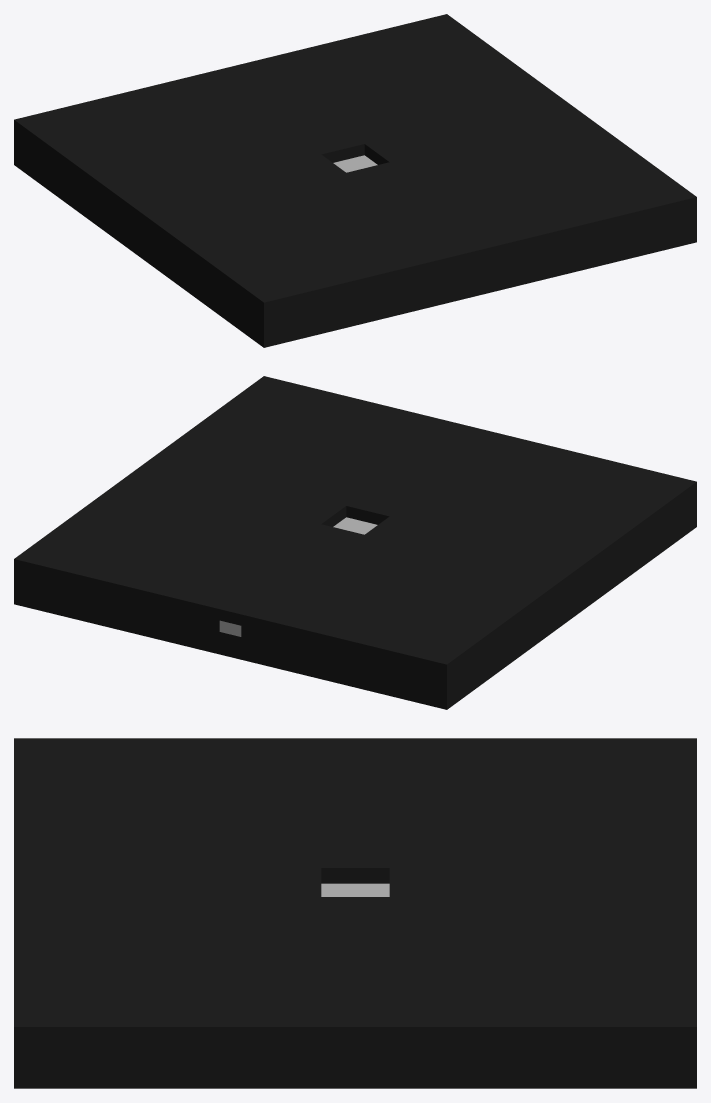
File: Crossroads.obj
3 renders of one model, top to bottom at view 1: azimuth 30°, elevation 25°; view 2: azimuth 150°, elevation 25°; view 3: azimuth 270°, elevation 25°, orthographic. The views are drawn at different scales.
Visible parts, largest first — view 1: Crossroads; view 2: Crossroads; view 3: Crossroads.
Part boxes in pixels (x1,y1,x2,y2): Crossroads: (14, 14, 696, 347); Crossroads: (14, 376, 696, 709); Crossroads: (14, 738, 696, 1088).
Size of the model in its own units: 40 by 4 by 40.
1 material, 1 textured.
